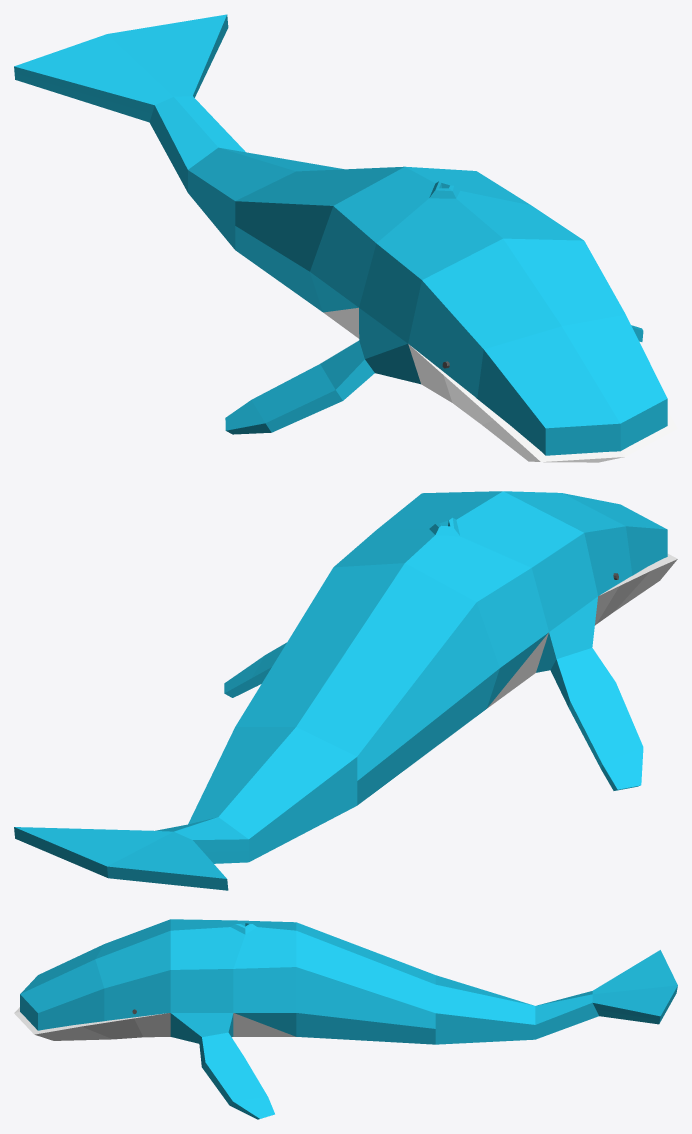
The model's file is whale.gltf.
3 renders of one model, top to bottom at view 1: azimuth 30°, elevation 25°; view 2: azimuth 150°, elevation 25°; view 3: azimuth 270°, elevation 25°, orthographic. The views are drawn at different scales.
Visible parts, largest first — view 1: node-0; view 2: node-0; view 3: node-0.
Boxes of the visible parts, x1,y1,x2,y2 form: node-0: (14,14,677,462); node-0: (14,491,677,890); node-0: (14,919,677,1119).
Bounding box in the file's own units: 16.78 × 7.97 × 36.15.
